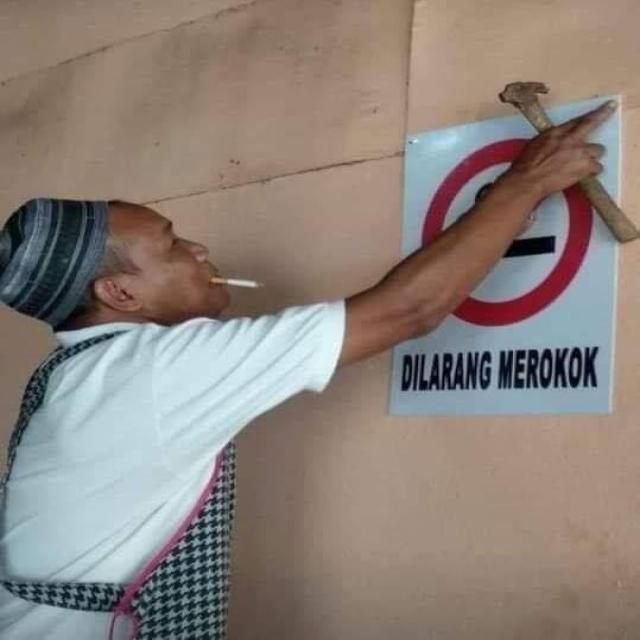rokok: (205, 269, 271, 295)
